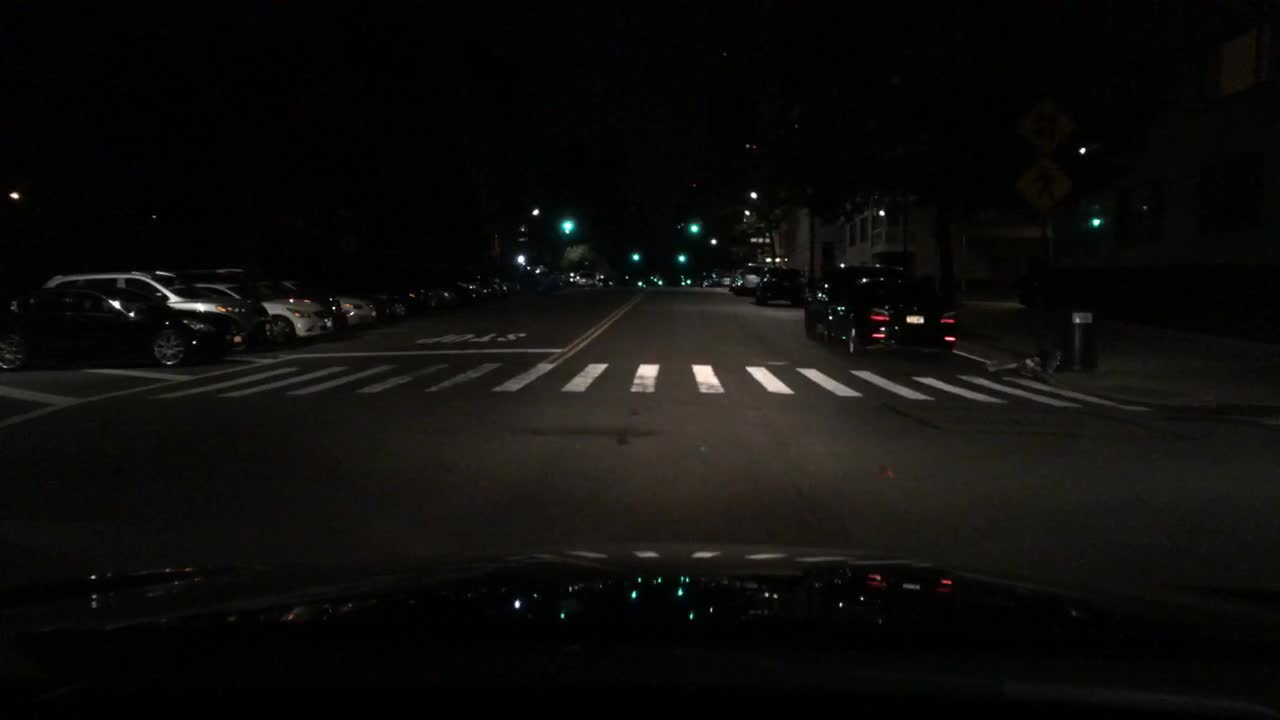car: (0, 280, 251, 368), (40, 270, 275, 356), (820, 273, 958, 359), (194, 275, 339, 347), (800, 260, 908, 341), (276, 273, 376, 331), (363, 280, 418, 319), (752, 266, 803, 307), (457, 268, 506, 300), (408, 270, 450, 307), (508, 265, 550, 296), (435, 275, 479, 302), (735, 260, 766, 295), (552, 268, 584, 292), (489, 273, 511, 295), (727, 266, 744, 293), (577, 268, 600, 287), (712, 270, 732, 287)
traffic light: (1083, 211, 1107, 233), (558, 209, 573, 234), (687, 214, 700, 238), (629, 245, 641, 265), (513, 250, 528, 266), (676, 246, 687, 265)
traffic sign: (1011, 94, 1080, 157), (1011, 157, 1073, 216), (746, 233, 773, 245)
